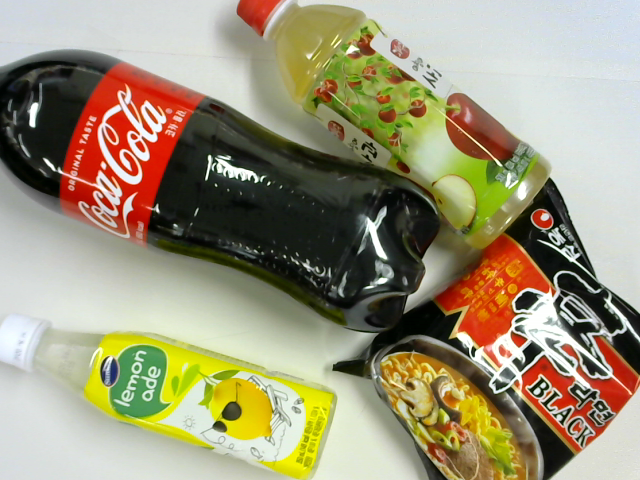Coca_Cola_1.5L: (1, 49, 439, 335)
Morning_Apple_500ml: (236, 1, 553, 249)
Sinramen_Black: (331, 177, 638, 480)
Sunkist_Lemonaid_Pet: (1, 313, 338, 480)
